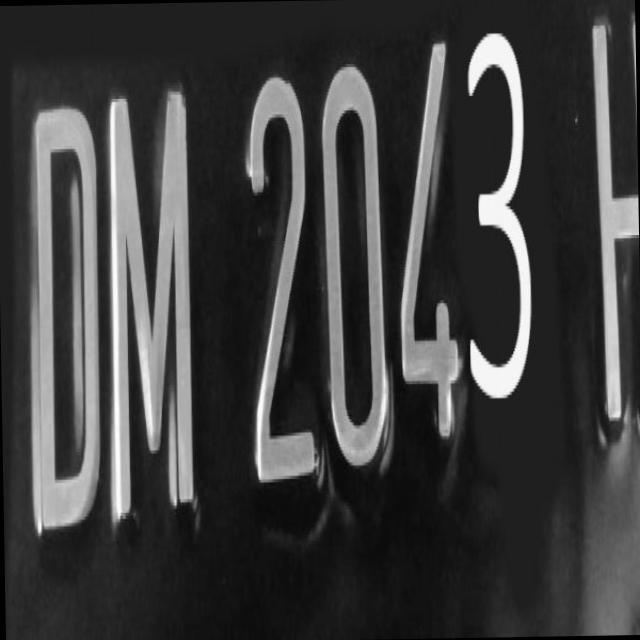0: (319, 48, 400, 476)
2: (242, 70, 324, 522)
3: (454, 20, 546, 409)
4: (394, 32, 466, 432)
D: (19, 103, 110, 545)
H: (578, 0, 640, 439)
M: (101, 94, 218, 508)
